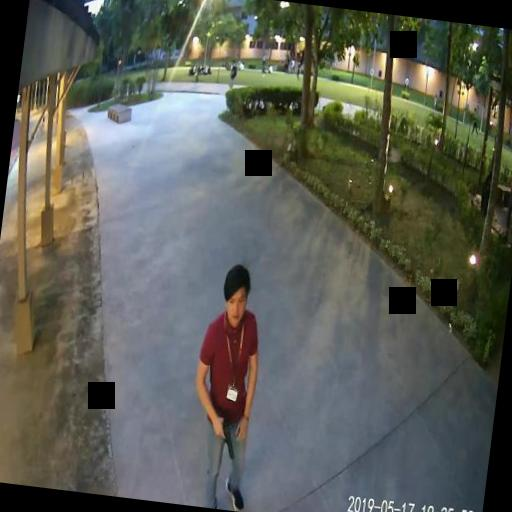Handgun: (211, 416, 237, 460)
